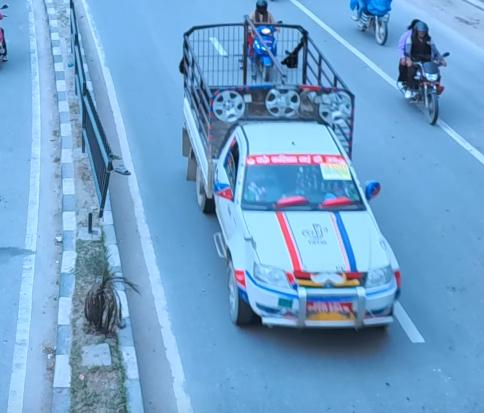bike: (394, 16, 454, 126)
transport_vehicle: (180, 9, 416, 341)
